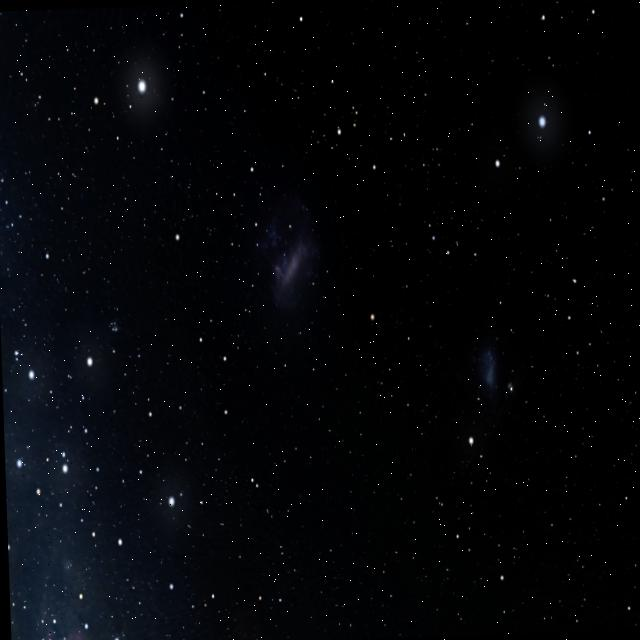Mensa: (302, 265, 334, 377)
